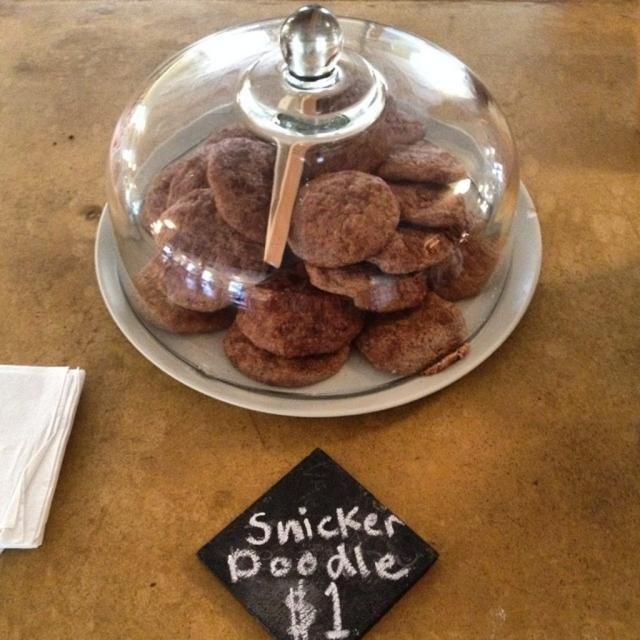Cookie: (154, 187, 282, 310), (231, 261, 362, 356), (278, 170, 399, 269), (360, 291, 472, 378), (305, 78, 397, 176), (208, 133, 276, 240), (223, 331, 351, 387), (133, 264, 235, 334), (303, 265, 426, 310), (357, 227, 456, 276), (397, 181, 485, 234), (426, 229, 500, 285), (136, 157, 186, 234), (385, 144, 473, 183), (162, 162, 210, 210), (203, 122, 276, 145), (388, 102, 425, 142)
